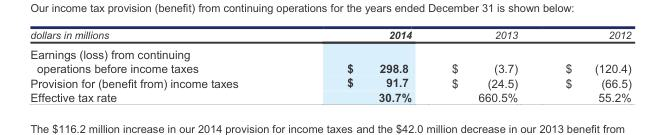table: (29, 29, 630, 103)
table column: (29, 29, 291, 103), (291, 29, 431, 103), (431, 29, 540, 103), (540, 29, 630, 103)
table column header: (29, 29, 630, 43)
table projected row header: (29, 43, 630, 60)
table row: (29, 43, 630, 60), (29, 60, 630, 75), (29, 29, 630, 43), (29, 75, 630, 89), (29, 89, 630, 103)
